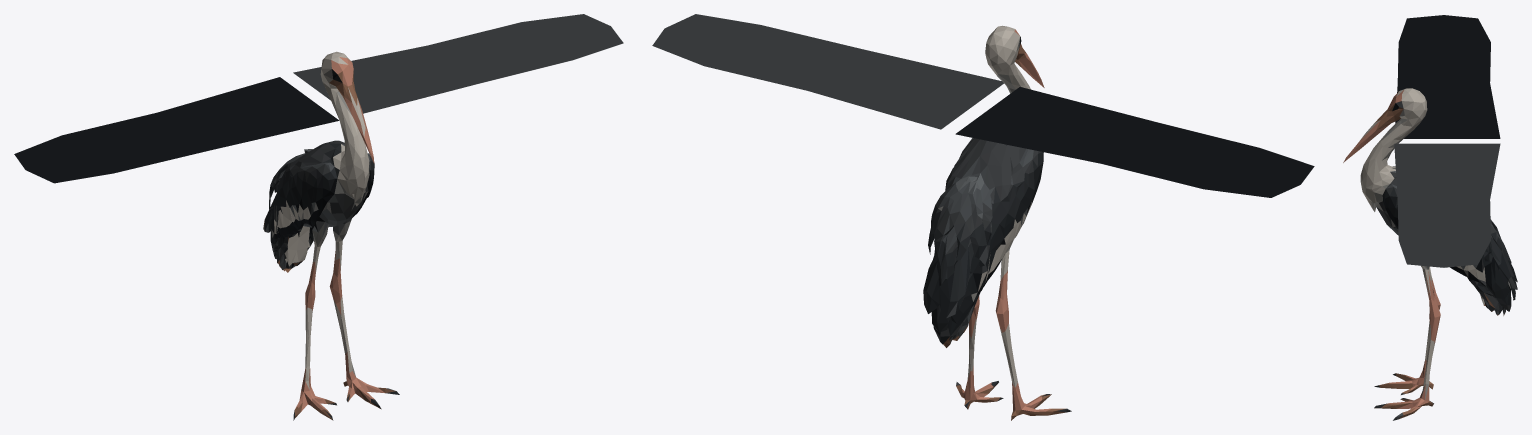
Rendered from leptoptilos_crumenifer.glb.
3 renders of one model, left to right at view 1: azimuth 30°, elevation 25°; view 2: azimuth 150°, elevation 25°; view 3: azimuth 270°, elevation 25°, orthographic. The views are drawn at different scales.
Visible parts, largest first — view 1: lod0; view 2: lod0; view 3: lod0.
Boxes of the visible parts, x1,y1,x2,y2 form: lod0: (14, 14, 623, 420); lod0: (652, 14, 1314, 420); lod0: (1343, 15, 1517, 420).
Size of what is drawn, in the model's own units: 2.48 by 1.4 by 0.7209.
